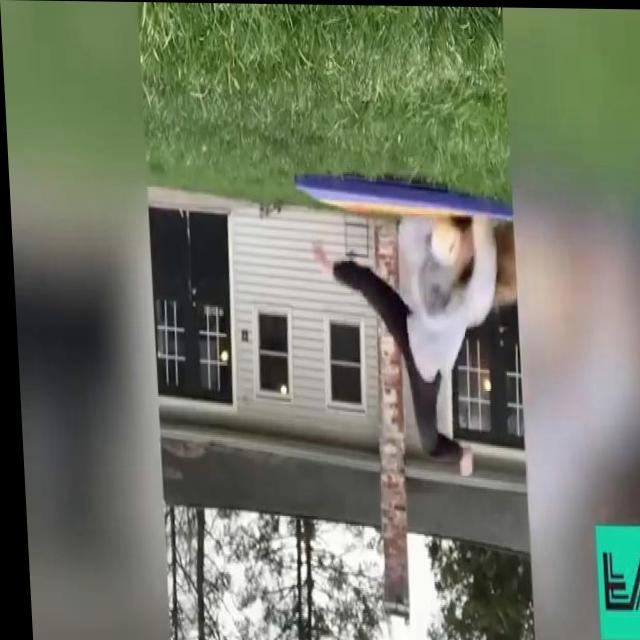fall: (310, 204, 505, 483)
